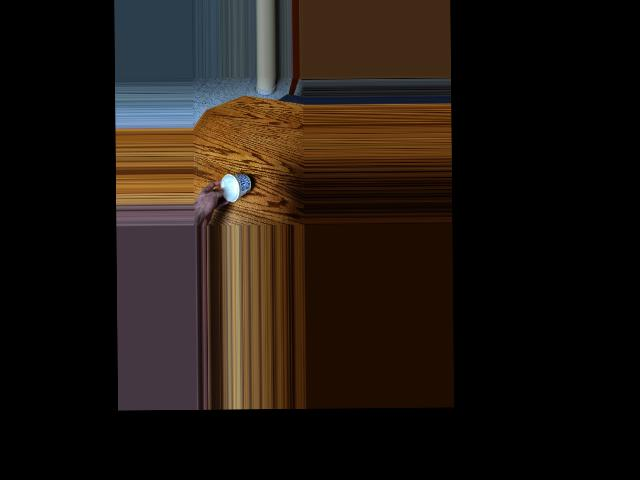cotage: (220, 174, 254, 196)
